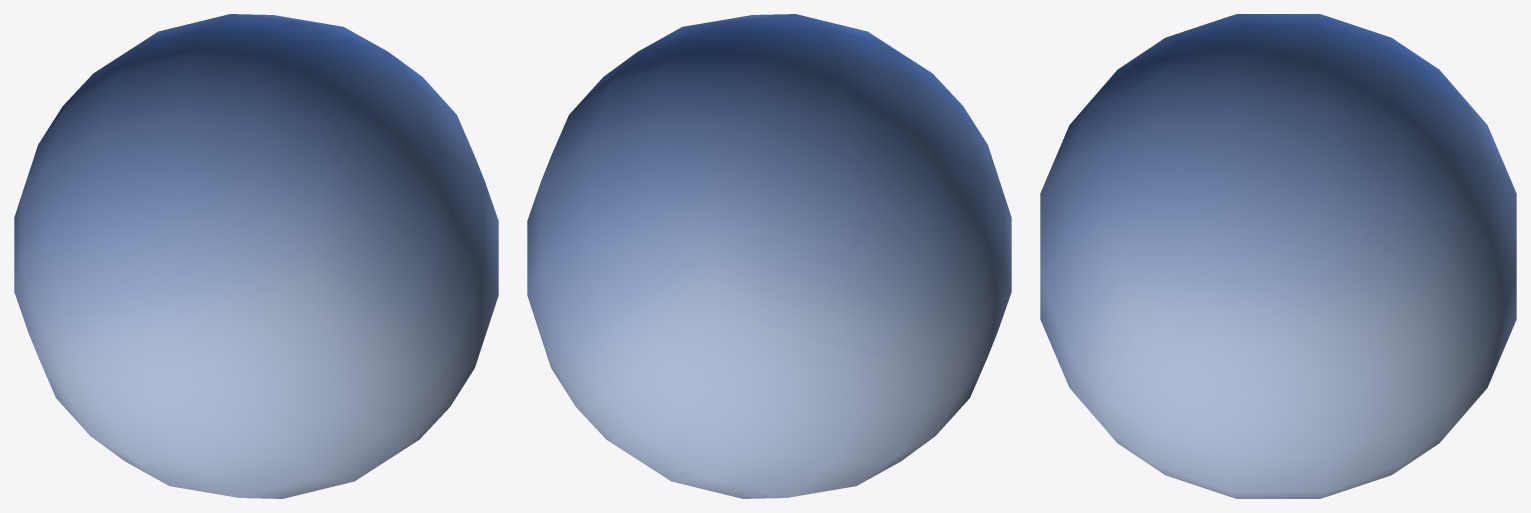
The model's file is Milostan_Skybox_EXP.gltf.
3 renders of one model, left to right at view 1: azimuth 30°, elevation 25°; view 2: azimuth 150°, elevation 25°; view 3: azimuth 270°, elevation 25°, orthographic.
Visible parts, largest first — view 1: Box001; view 2: Box001; view 3: Box001.
Part boxes in pixels (left/top/right/bottom): Box001: left=14, top=14, right=498, bottom=498; Box001: left=527, top=14, right=1011, bottom=498; Box001: left=1040, top=14, right=1516, bottom=498.
Bounding box in the file's own units: 9.62 × 9.62 × 9.62.
1 material, 1 textured.
